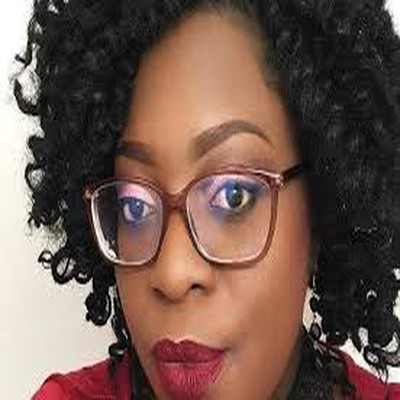eywear: (63, 148, 314, 268)
